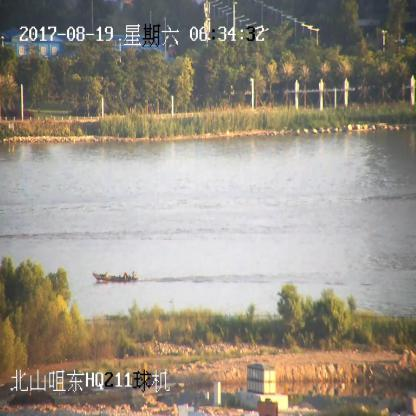Fishing Boat: (94, 269, 138, 283)
